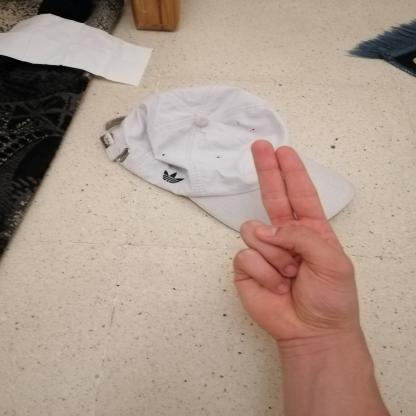TA: (216, 131, 376, 351)
